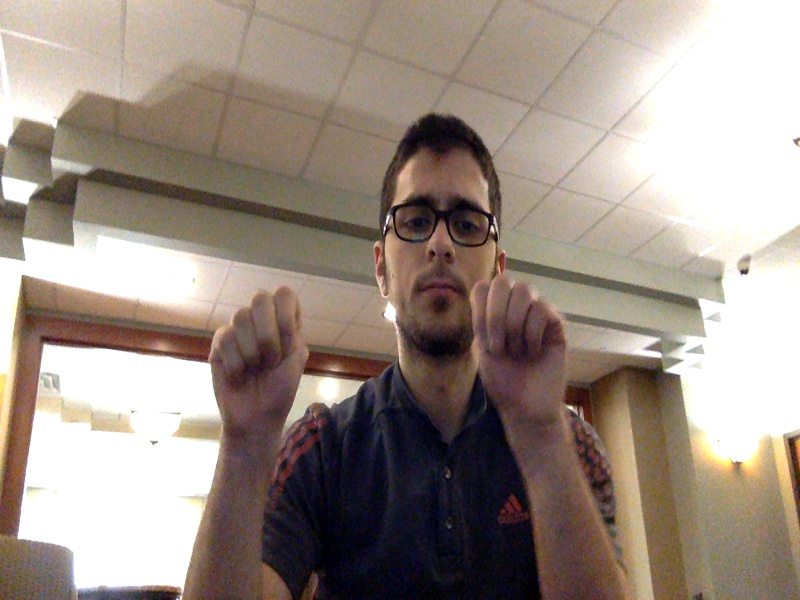0-hand: (209, 286, 307, 439), (469, 277, 568, 423)
